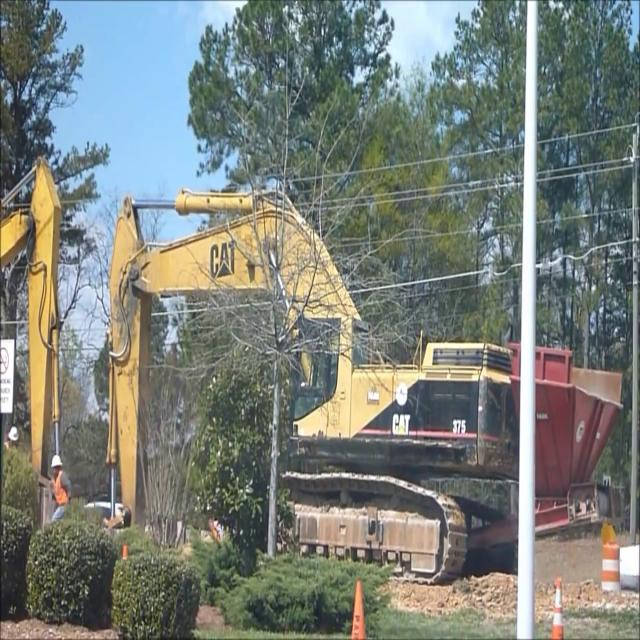excavator: (107, 194, 527, 586)
